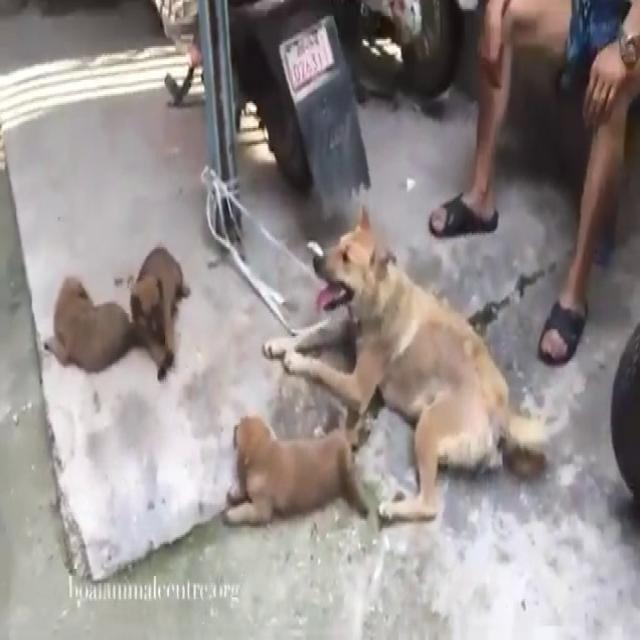normal_animals: (262, 201, 550, 526)
